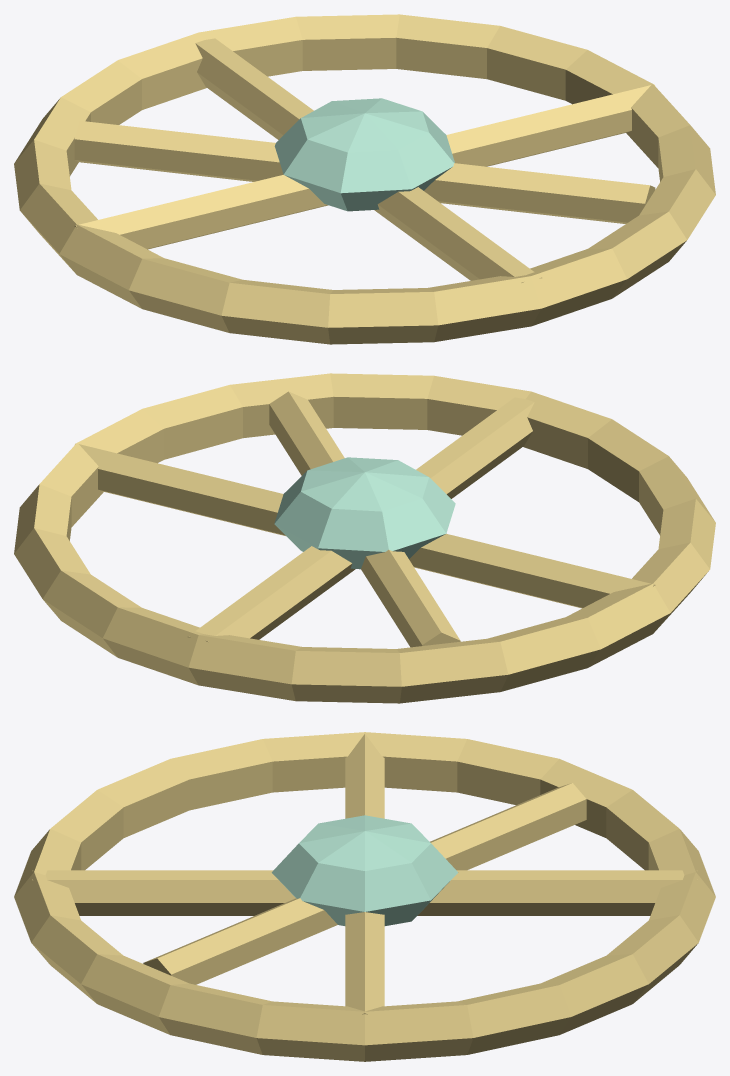
Rendered from glifo_muro.glb.
The picture shows the model from 3 angles, top to bottom: view 1: azimuth 30°, elevation 25°; view 2: azimuth 150°, elevation 25°; view 3: azimuth 270°, elevation 25°; orthographic projection.
Parts seen in each view (by area): view 1: glifo_muro; view 2: glifo_muro; view 3: glifo_muro.
Part boxes in pixels (box(x1,y1,x2,y2)): glifo_muro: box(14, 14, 715, 344); glifo_muro: box(14, 373, 715, 703); glifo_muro: box(14, 732, 715, 1061).
Size of the model in its own units: 0.338 by 0.0483 by 0.338.
